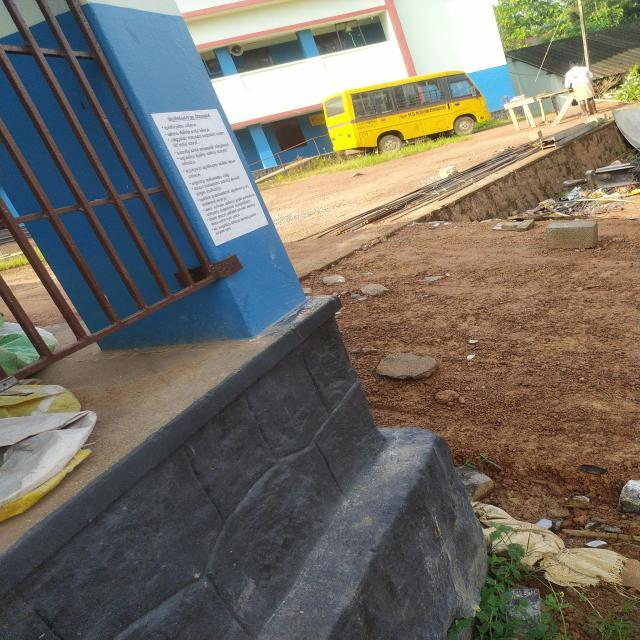Travller: (287, 68, 514, 166)
